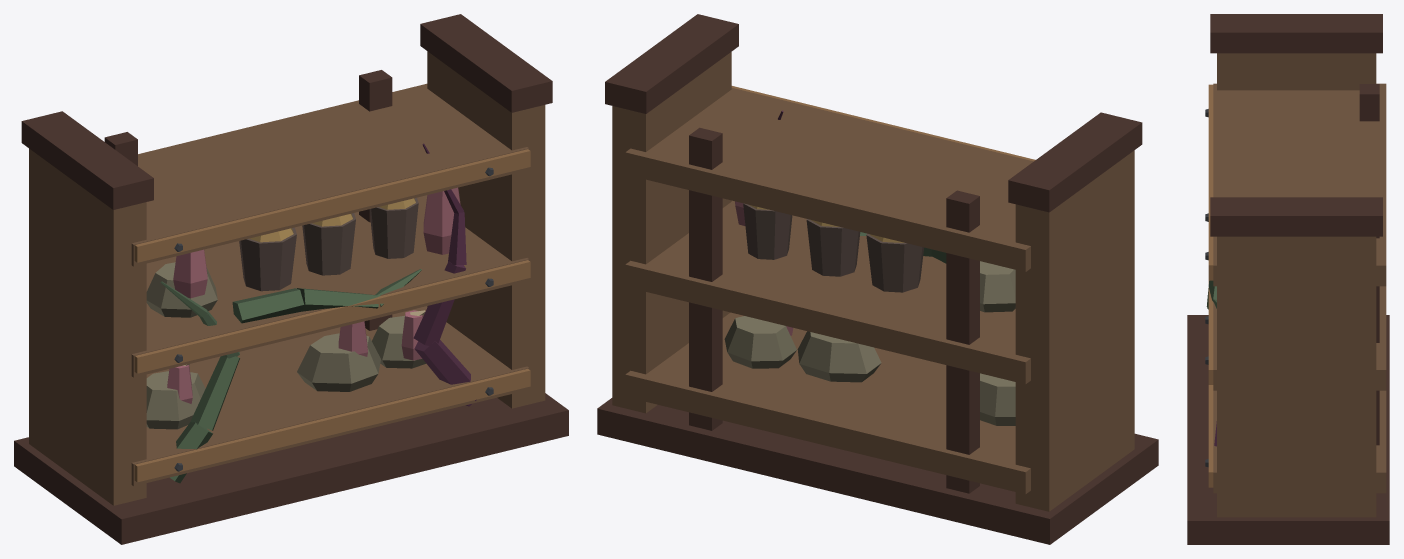
File: flour-shelves-hatched.glb
3 views of the same model, side by side, from view 1: azimuth 30°, elevation 25°; view 2: azimuth 150°, elevation 25°; view 3: azimuth 270°, elevation 25° (orthographic). The views are drawn at different scales.
Visible parts, largest first — view 1: Flour shelves · hatched; view 2: Flour shelves · hatched; view 3: Flour shelves · hatched.
Boxes of the visible parts, x1,y1,x2,y2 form: Flour shelves · hatched: (14,14,568,544); Flour shelves · hatched: (597,14,1158,544); Flour shelves · hatched: (1187,14,1389,544).
Bounding box in the file's own units: 1.9 × 1.41 × 0.79.
